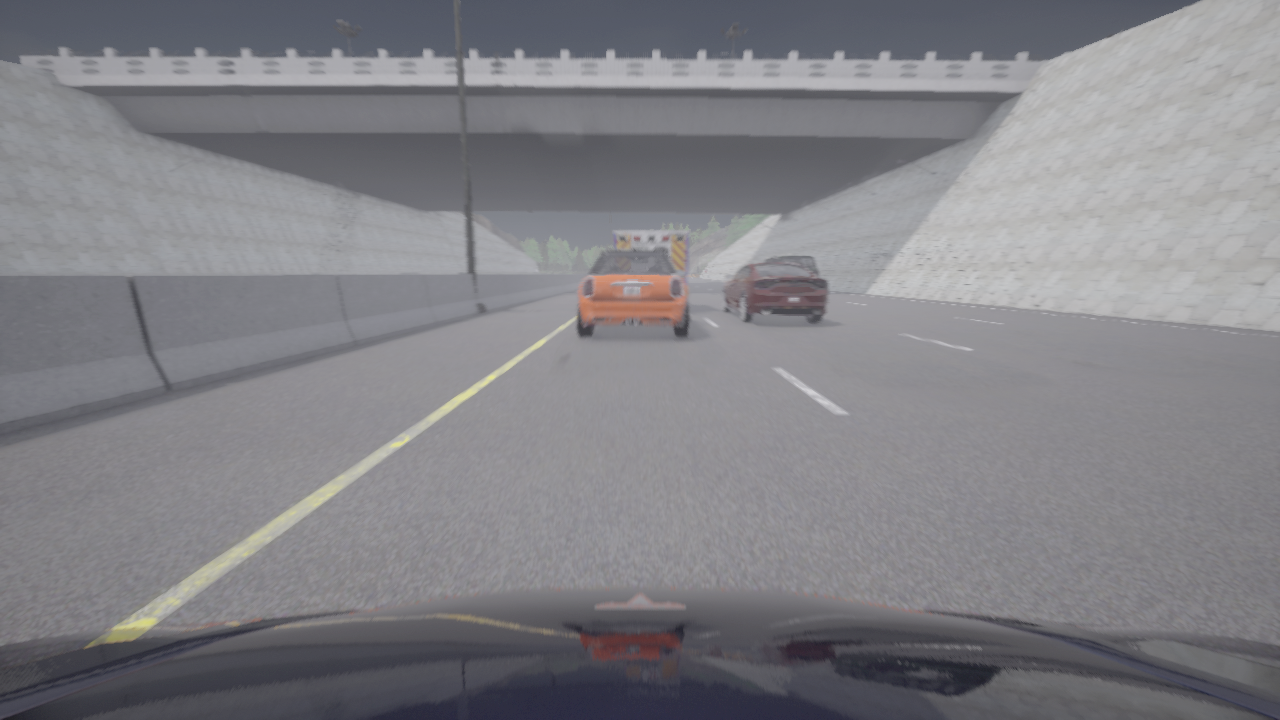cyclist: (0, 588, 1279, 719), (576, 243, 688, 337), (721, 260, 826, 322), (613, 232, 688, 286), (763, 255, 819, 277)
